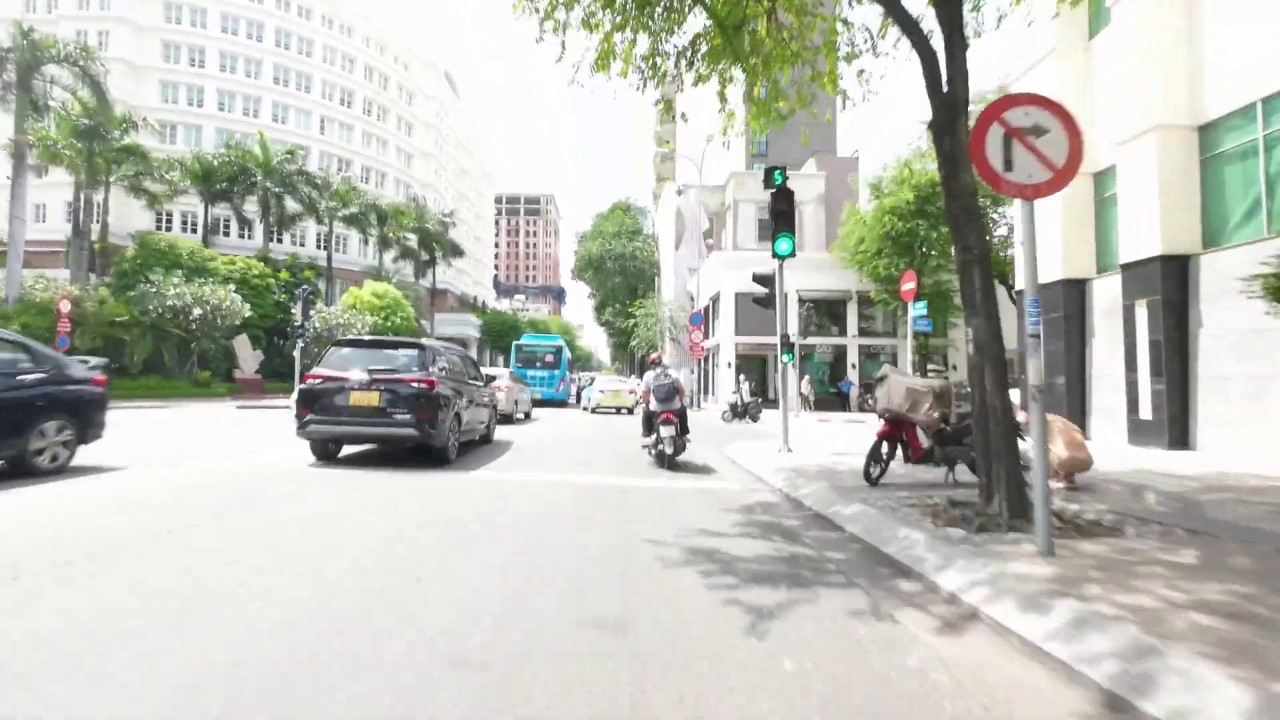cam_re_phai: (968, 90, 1086, 201)
